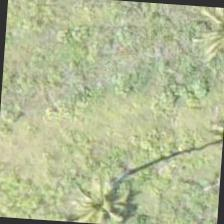Kelapa_Sawit: (64, 153, 160, 223), (175, 4, 223, 87)
